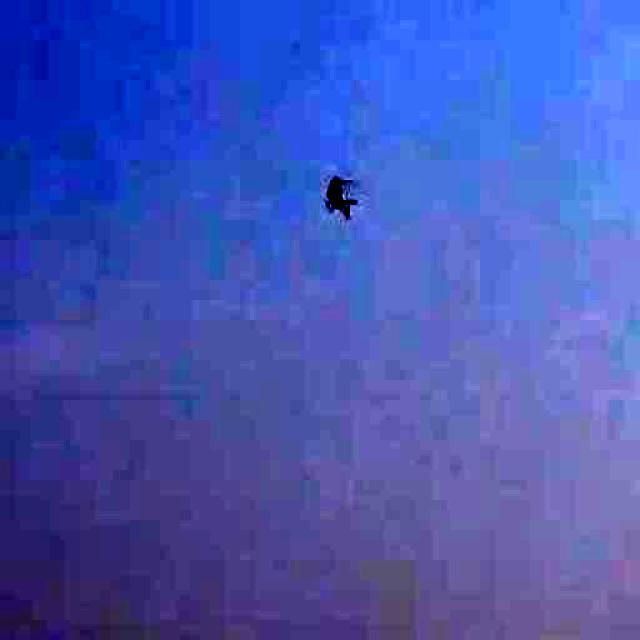drone: (288, 128, 401, 265)
